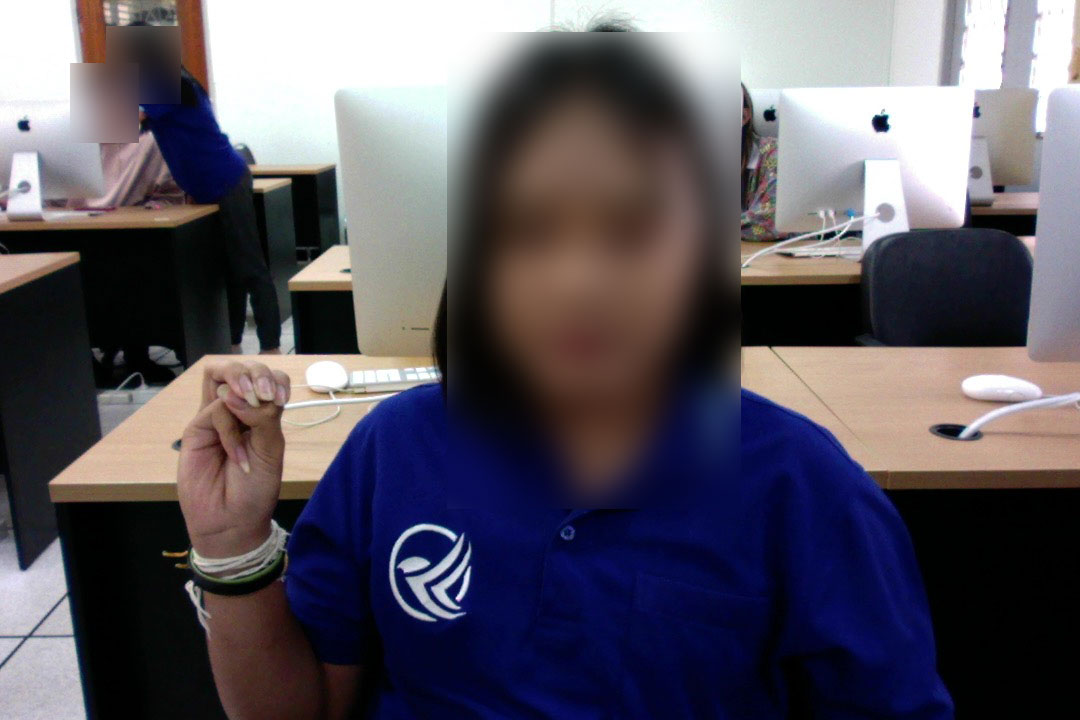mor: (171, 355, 295, 555)
